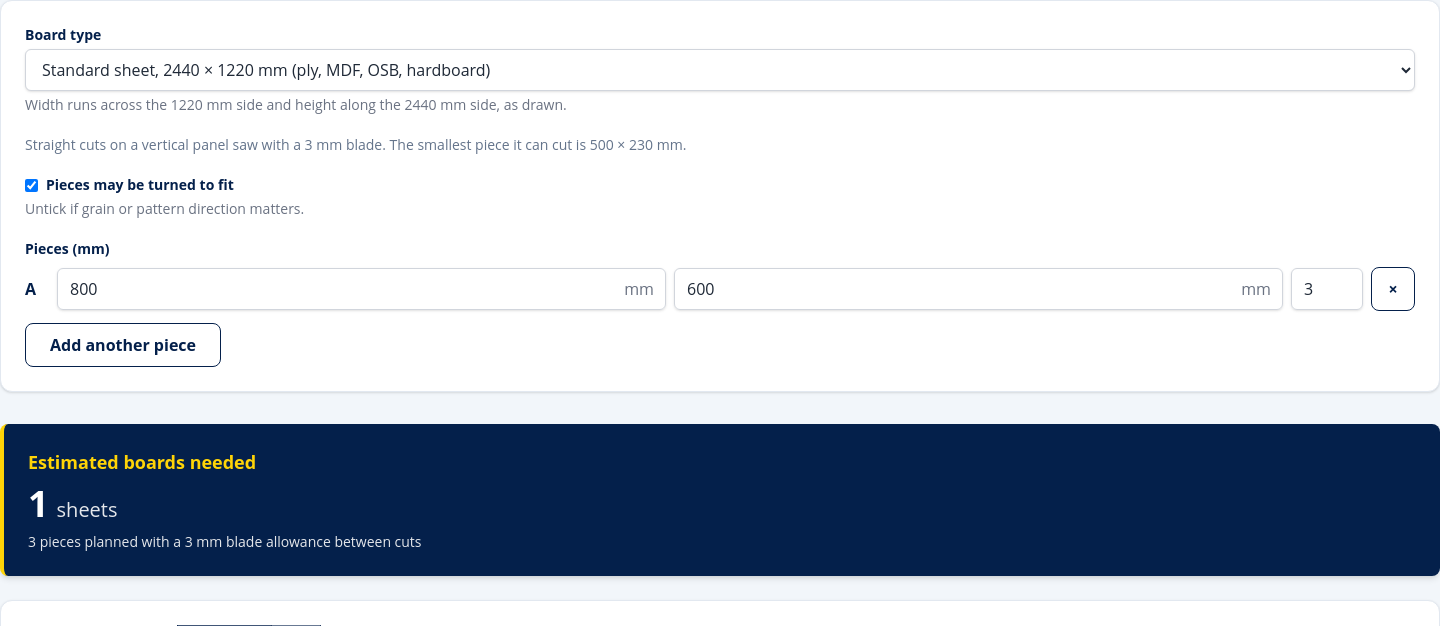
BoardCuttingCalculator › replaces the only row with a fresh blank row and focuses its width
The image size is (1440, 626).
What coordinates should you click on to do the following:
click the button named "Remove piece A"
I would click on:
 (1393, 289)
Its box is [1371, 267, 1415, 311].
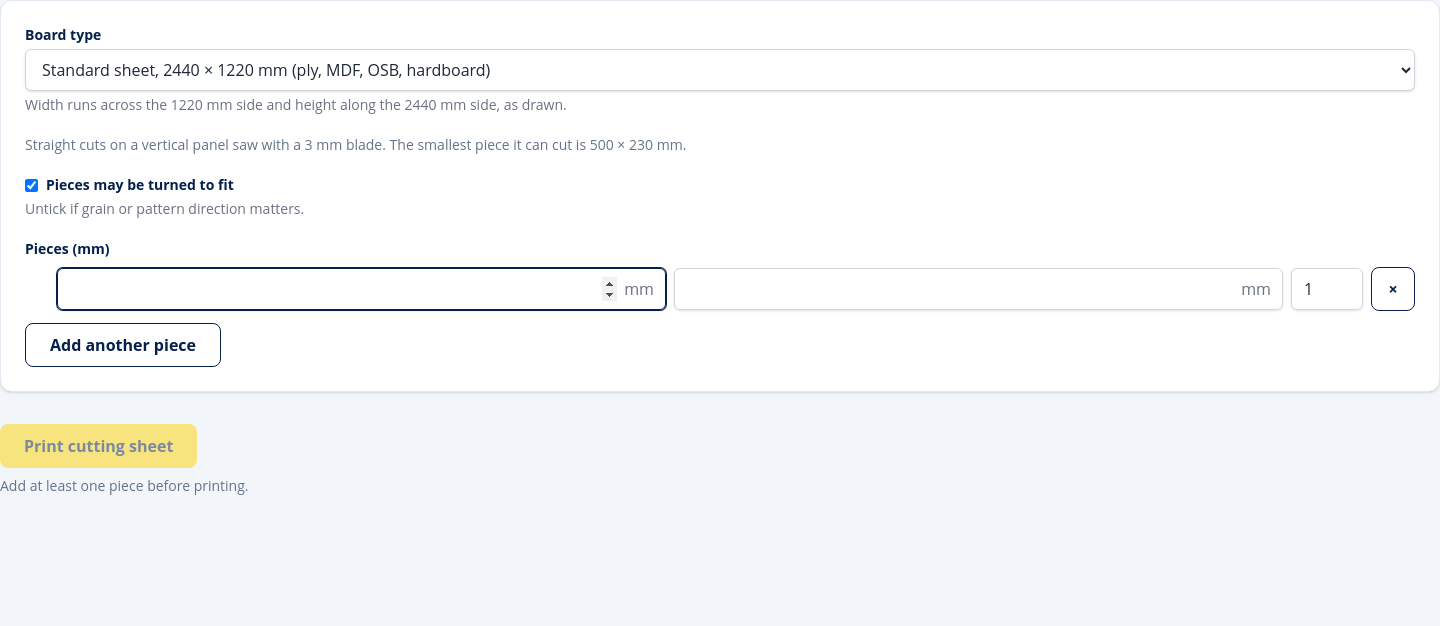
Expected: the number field named "Width of new piece" is not empty, [57, 268, 666, 310]
Expected: the number field named "Height of new piece" is not empty, [674, 268, 1283, 310]
Expected: the number field named "Quantity of new piece" holds "1", [1291, 268, 1363, 310]
